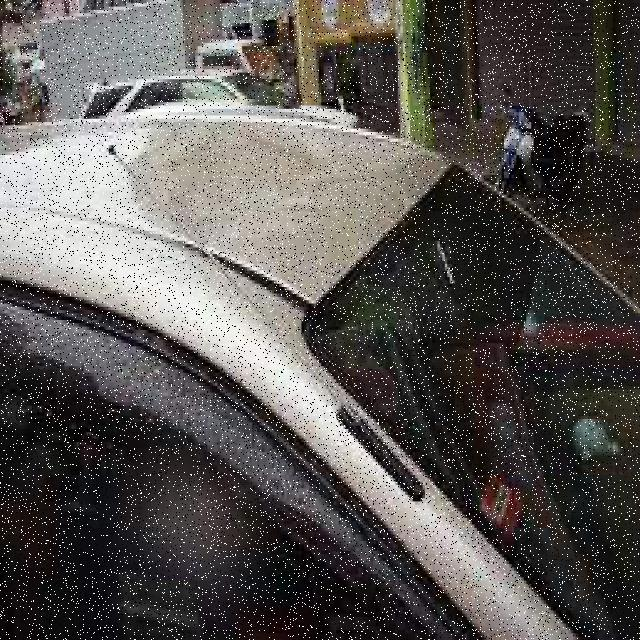roof-dent: (2, 106, 434, 350)
